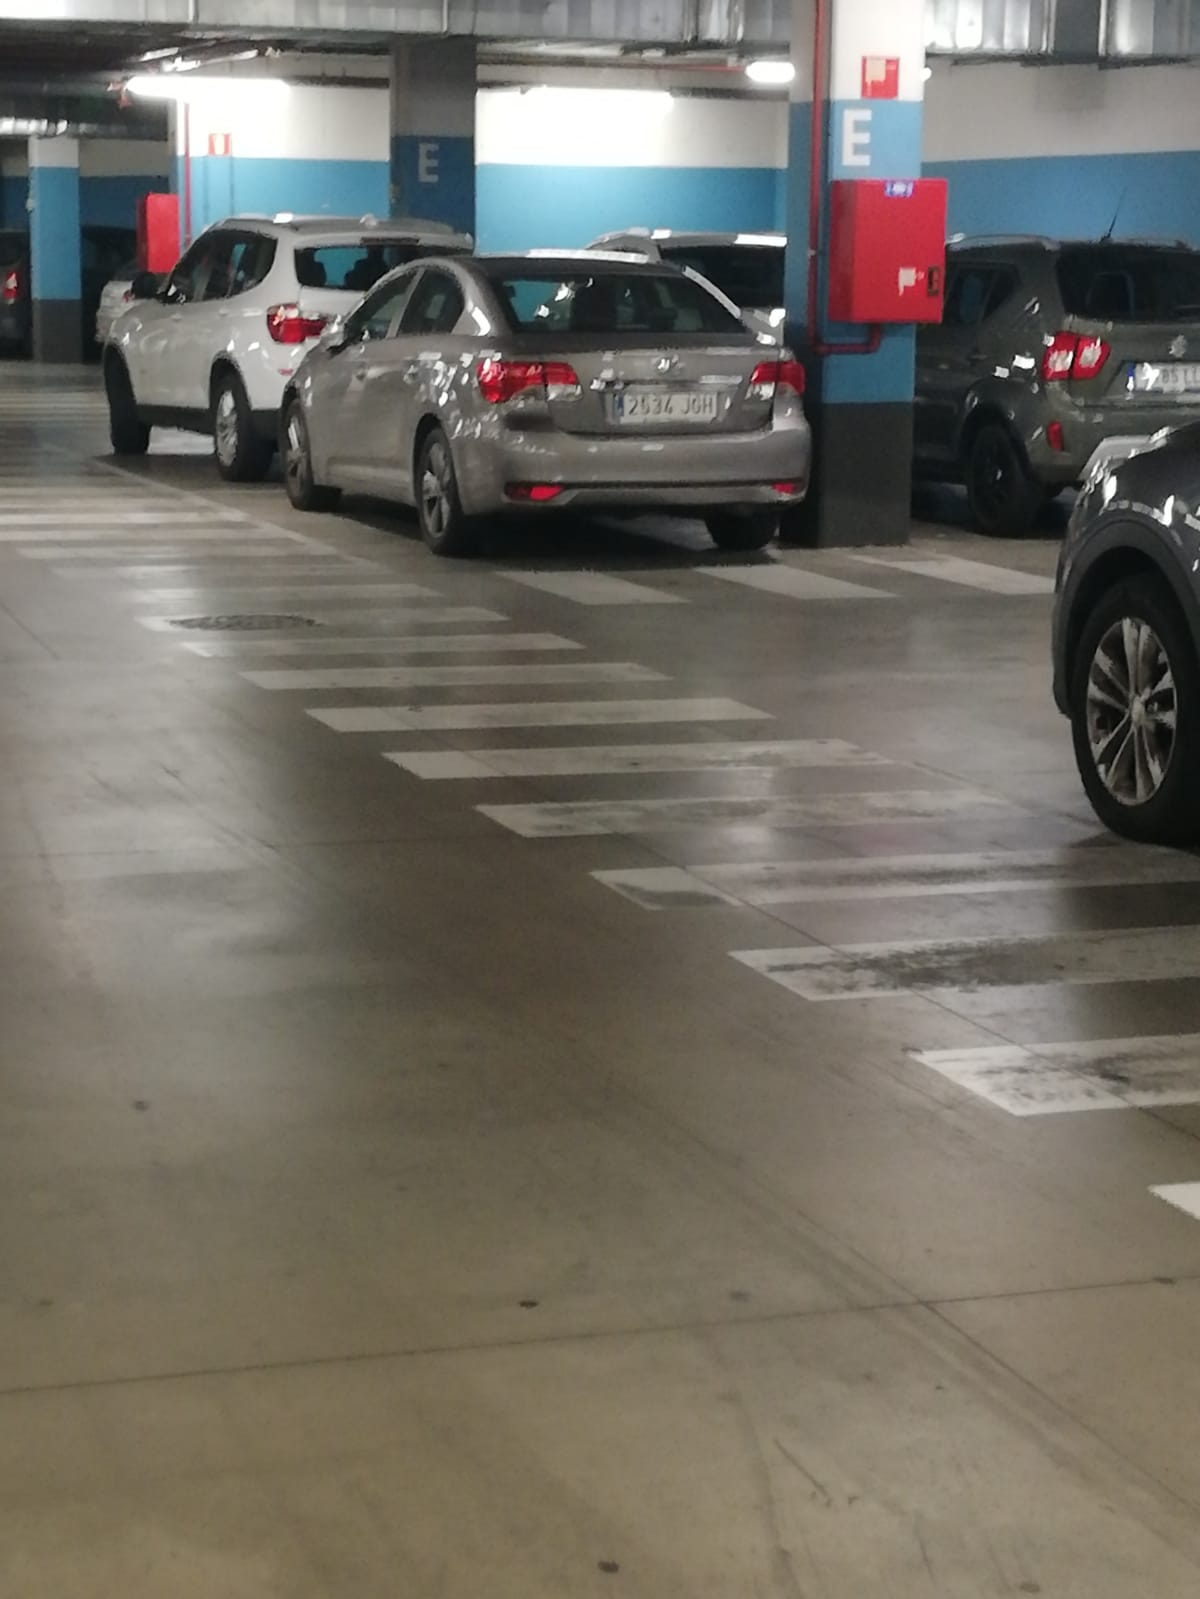Car: (289, 250, 793, 535)
Plate: (609, 390, 718, 421)
